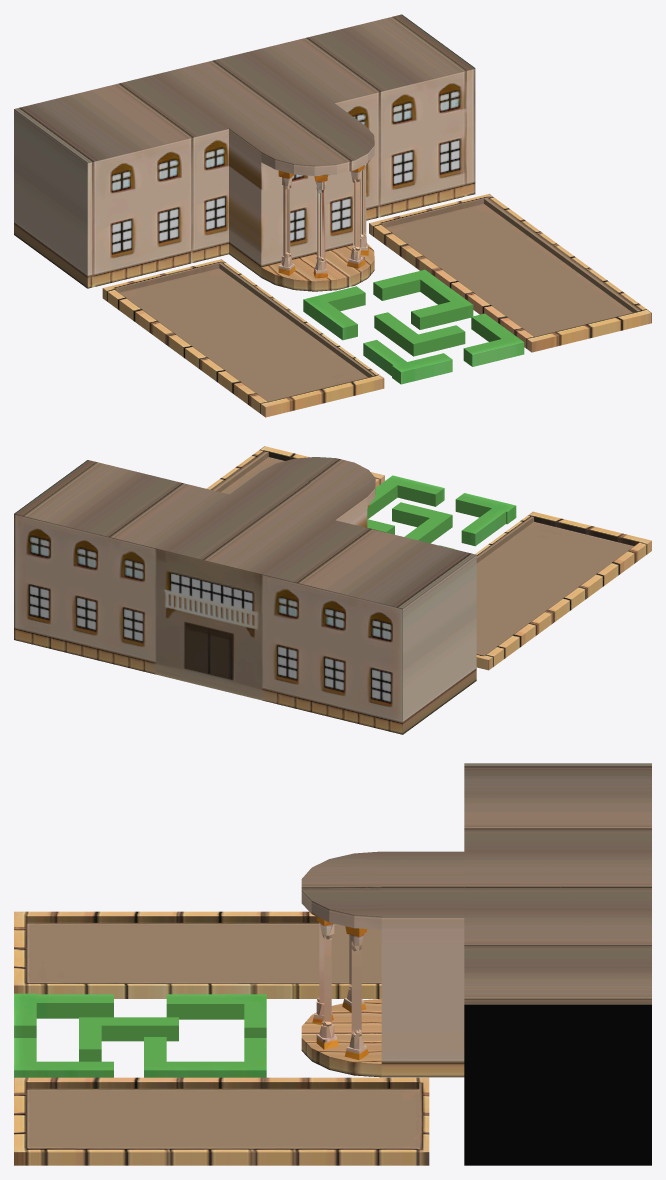
Rendered from Mansion.glb.
The picture shows the model from 3 angles, top to bottom: view 1: azimuth 30°, elevation 25°; view 2: azimuth 150°, elevation 25°; view 3: azimuth 270°, elevation 25°; orthographic projection. The views are drawn at different scales.
Visible parts, largest first — view 1: Mansion; view 2: Mansion; view 3: Mansion.
Part boxes in pixels (bbox=[...]): Mansion: bbox=[14, 14, 651, 417]; Mansion: bbox=[14, 446, 651, 734]; Mansion: bbox=[14, 763, 651, 1165].
Size of the model in its own units: 171 by 52.93 by 191.
Materials: 1 (1 with a texture image).
